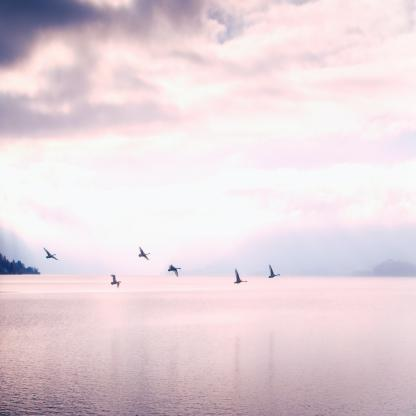bird: (232, 268, 249, 288), (137, 246, 153, 264), (267, 264, 283, 282), (166, 263, 183, 279), (44, 249, 60, 264), (110, 273, 123, 291)
